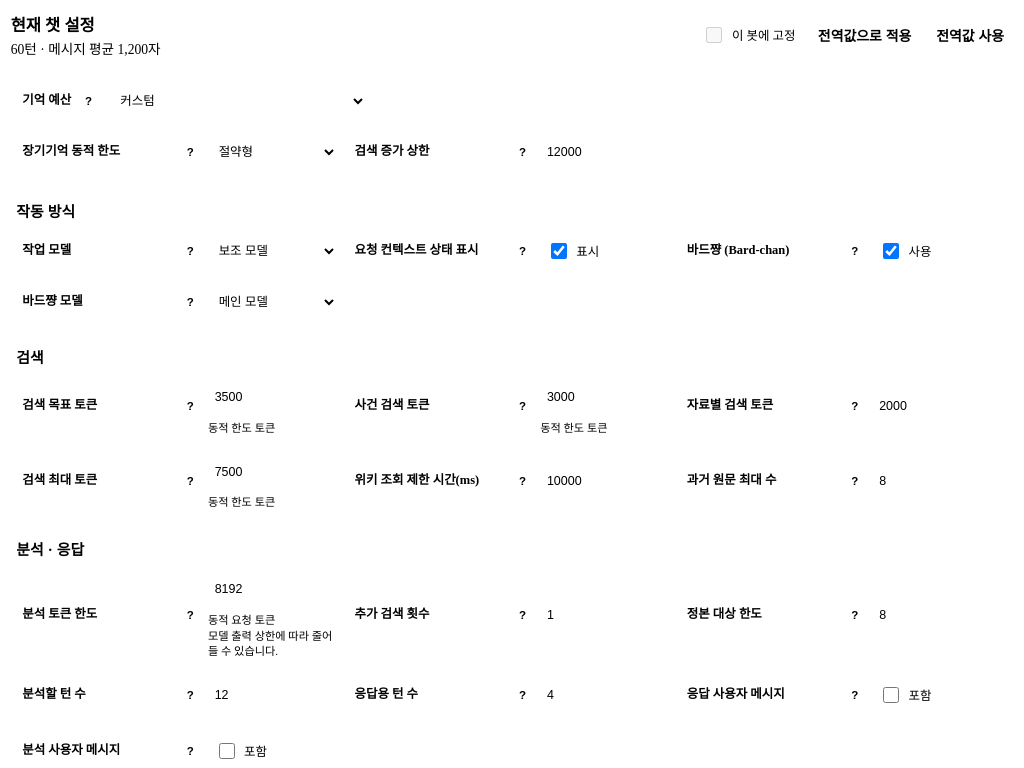
Test: RisuBardCurrentChatSettings › memory budget preset › shows the fields for values that match no tier and re-detects a saved tier on remount
Expected: the number field with id "bardwiki-target-tokens" holds "3500", [208,376,351,417]
Select "보통" in the dropdown with id "bardwiki-memory-budget". click: (238, 101)
box: [110,85,366,117]
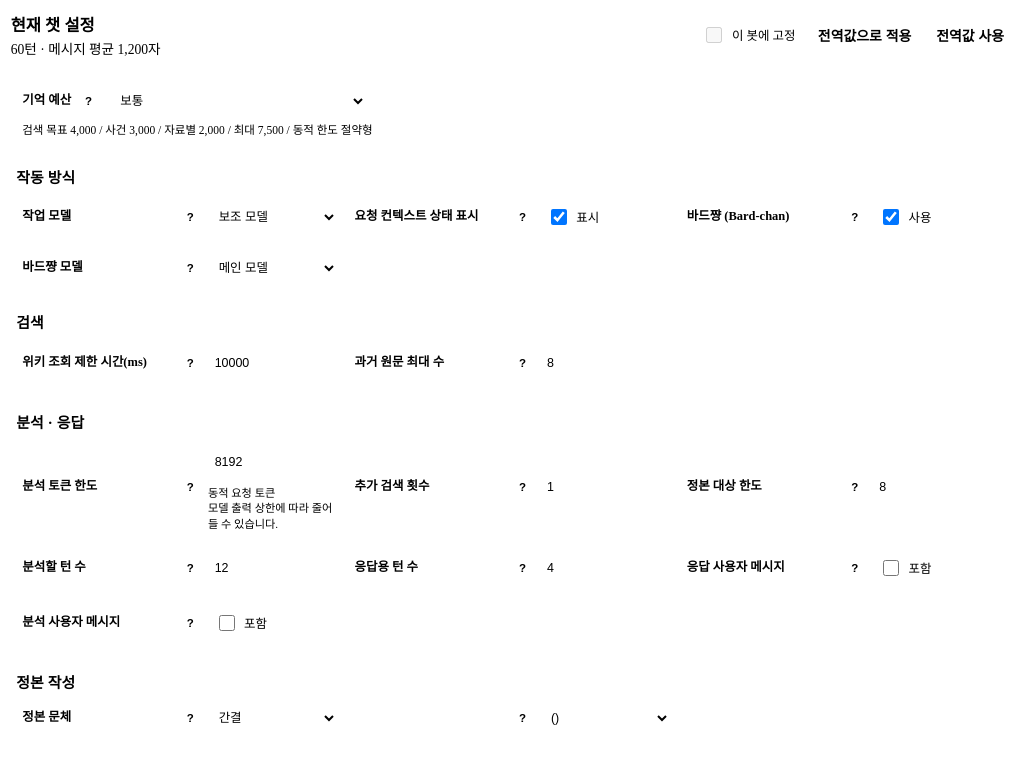
Expected: the dropdown with id "bardwiki-memory-budget" shows "보통", [110,85,366,117]
Expected: the label with id "bardwiki-target-tokens" is gone
